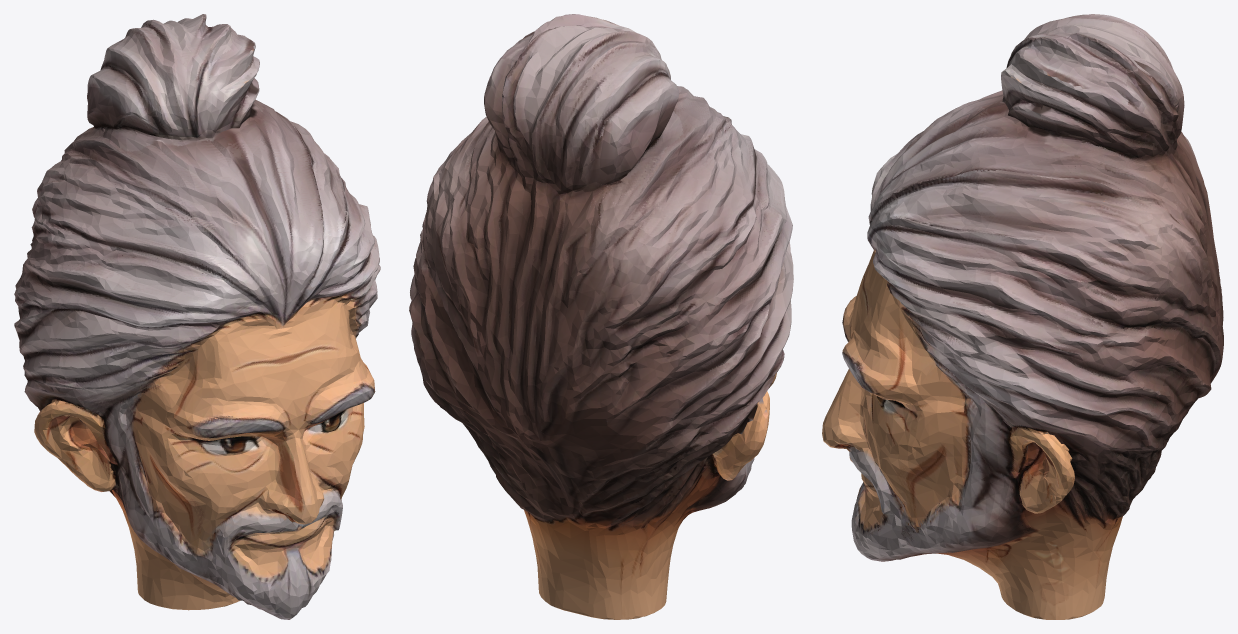
The model's file is side_snakeelder_repaired_atlas.glb.
The picture shows the model from 3 angles, left to right: view 1: azimuth 30°, elevation 25°; view 2: azimuth 150°, elevation 25°; view 3: azimuth 270°, elevation 25°; orthographic projection. The views are drawn at different scales.
Parts seen in each view (by area): view 1: temp_mesh.ply; view 2: temp_mesh.ply; view 3: temp_mesh.ply.
Boxes of the visible parts, x1,y1,x2,y2 form: temp_mesh.ply: (14,14,380,619); temp_mesh.ply: (409,14,793,619); temp_mesh.ply: (822,14,1223,619).
Size of the model in its own units: 0.8753 by 1.42 by 0.9085.
Materials: 1 (1 with a texture image).
